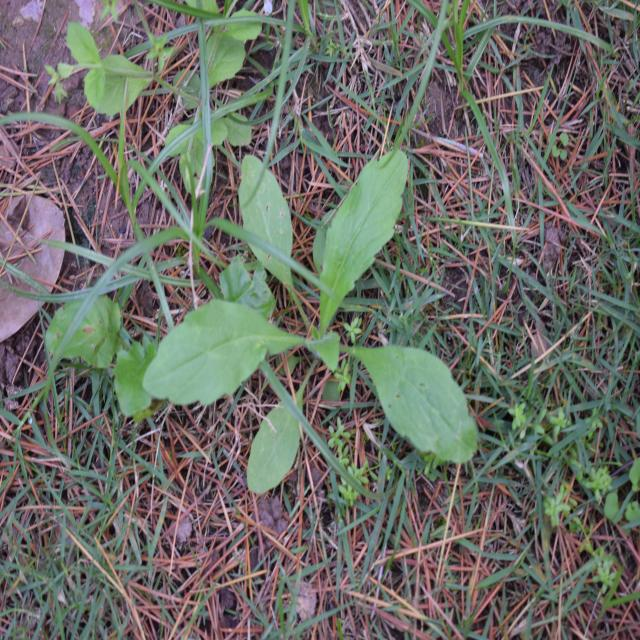horseweed: (153, 144, 473, 456)
